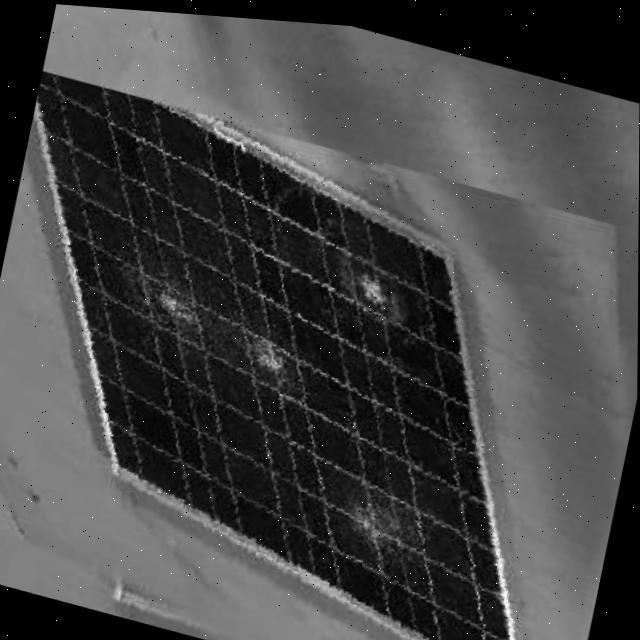Anomaly Solar Panel: (35, 72, 519, 640)
Structural Damage: (288, 450, 449, 582), (278, 227, 416, 318), (217, 296, 331, 404), (138, 242, 199, 349)
